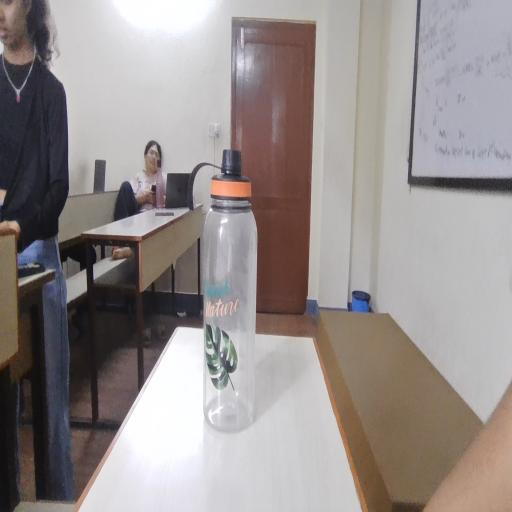Bottle: (193, 157, 294, 440)
